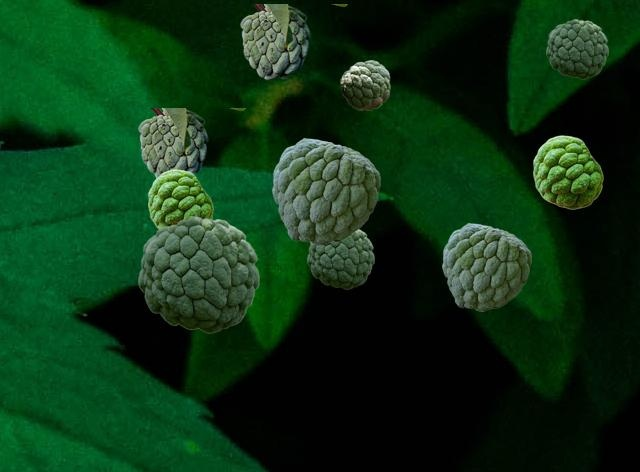atis: (138, 216, 258, 332), (272, 138, 379, 244), (240, 4, 346, 79), (442, 223, 530, 310), (138, 108, 244, 177), (533, 135, 602, 208), (307, 229, 373, 288), (148, 169, 212, 228), (546, 19, 607, 78), (340, 60, 389, 109)
